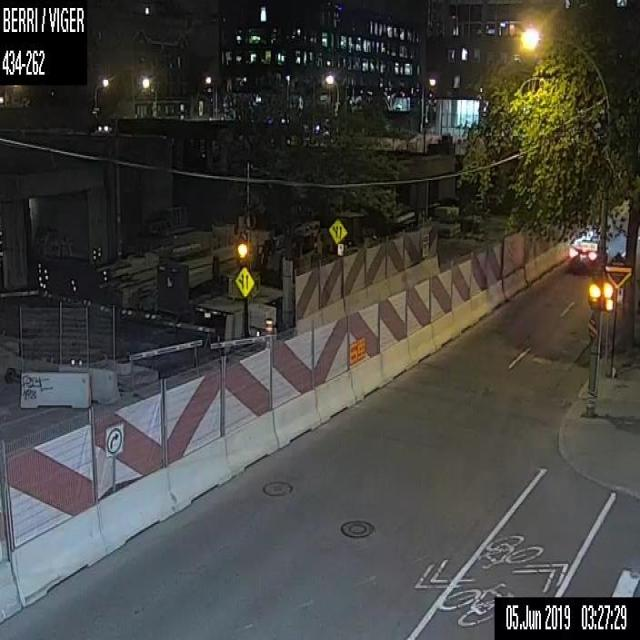construction: (0, 117, 579, 622), (263, 315, 274, 343), (255, 327, 259, 338)
vehicle: (566, 230, 608, 272)
